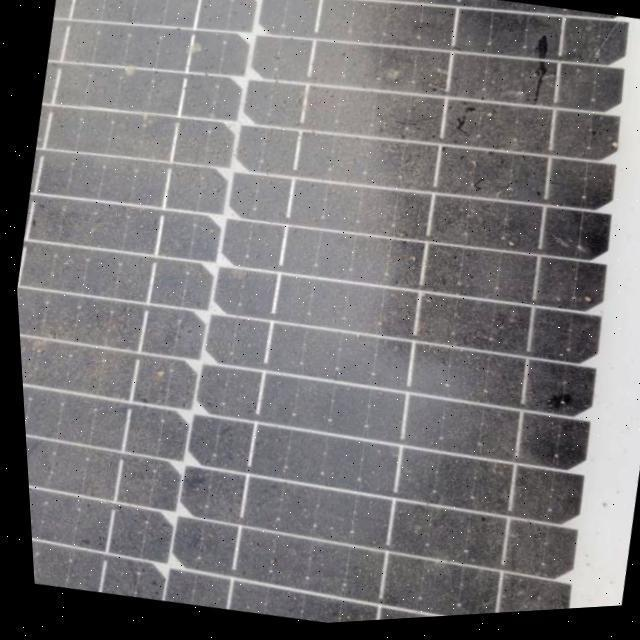Anomaly Solar Panel: (0, 0, 640, 640)
Surface Contaminant: (13, 0, 637, 626)
